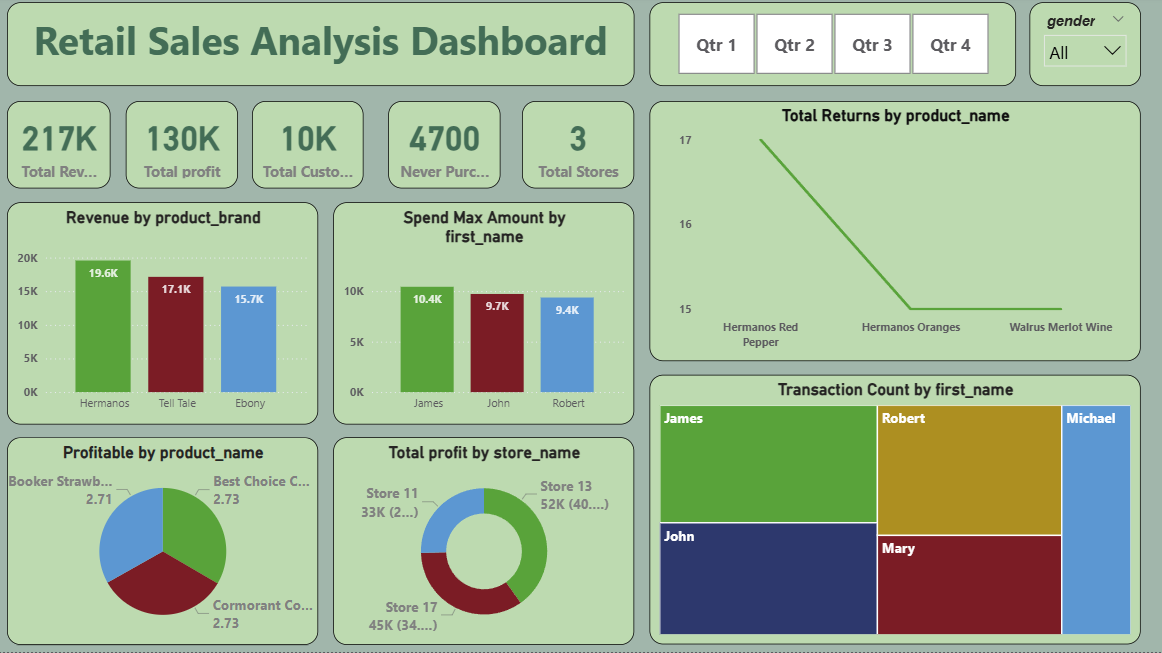

The page's visual inventory and layout, read from the dashboard file:
{"tool":"powerbi","page":{"name":"Page 1","canvas":[1280,720],"ordinal":0},"visuals":[{"type":"columnChart","fields":{"Category":["Products.product_brand"],"Y":["transactions_1997 3.Revenue"]},"box":[11,226.4,341.7,244.3],"z":0},{"type":"pieChart","fields":{"Category":["Products.product_name"],"Y":["Products.Profitable"]},"box":[11,484.4,341.7,227.8],"z":1000},{"type":"columnChart","fields":{"Category":["customers.first_name"],"Y":["Products.Spend Max Amount"]},"box":[369.1,226.4,330.7,244.3],"z":2000},{"type":"treemap","fields":{"Group":["customers.first_name"],"Values":["Products.Transaction Count"]},"box":[716.3,415.8,539.3,296.4],"z":3000},{"type":"card","fields":{"Values":["Products.Total Revenue"]},"box":[11,115.3,113.9,96.1],"z":4000},{"type":"card","fields":{"Values":["Products.Total Profit"]},"box":[141.3,115.3,123.5,96.1],"z":5000},{"type":"card","fields":{"Values":["Products.Total Customers"]},"box":[279.9,115.3,122.1,96.1],"z":6000},{"type":"card","fields":{"Values":["Products.Never Purchased Customers"]},"box":[429.5,115.3,123.5,96.1],"z":7000},{"type":"card","fields":{"Values":["Products.Total Stores"]},"box":[576.3,115.3,123.5,96.1],"z":8000},{"type":"donutChart","fields":{"Category":["Stores.store_name"],"Y":["Products.Total Profit"]},"box":[369.1,484.4,330.7,227.8],"z":9000},{"type":"lineChart","fields":{"Category":["Products.product_name"],"Y":["Products.Total Returns"]},"box":[716.3,115.3,539.3,285.4],"z":10000},{"type":"slicer","fields":{"Values":["customers.gender"]},"box":[1133.5,6.9,122.1,91.9],"z":11000},{"type":"slicer","fields":{"Values":["customers.acct_open_date.Variation.Date Hierarchy.Quarter"]},"box":[716.3,6.9,402.1,91.9],"z":12000},{"type":"textbox","box":[11,6.9,688.9,91.9],"z":13000}]}

Visuals, with their boxes in screenshot pixels (x1, y1, x2, y2), scaled from the page's 1280x720 canvas onto the 1162x653 screenshot:
columnChart - Products.product_brand x transactions_1997 3.Revenue: rect(10, 205, 320, 427)
pieChart - Products.product_name x Products.Profitable: rect(10, 439, 320, 646)
columnChart - customers.first_name x Products.Spend Max Amount: rect(335, 205, 635, 427)
treemap - customers.first_name x Products.Transaction Count: rect(650, 377, 1140, 646)
card - Products.Total Revenue: rect(10, 105, 113, 192)
card - Products.Total Profit: rect(128, 105, 240, 192)
card - Products.Total Customers: rect(254, 105, 365, 192)
card - Products.Never Purchased Customers: rect(390, 105, 502, 192)
card - Products.Total Stores: rect(523, 105, 635, 192)
donutChart - Stores.store_name x Products.Total Profit: rect(335, 439, 635, 646)
lineChart - Products.product_name x Products.Total Returns: rect(650, 105, 1140, 363)
slicer - customers.gender: rect(1029, 6, 1140, 90)
slicer - customers.acct_open_date.Variation.Date Hierarchy.Quarter: rect(650, 6, 1015, 90)
textbox: rect(10, 6, 635, 90)
